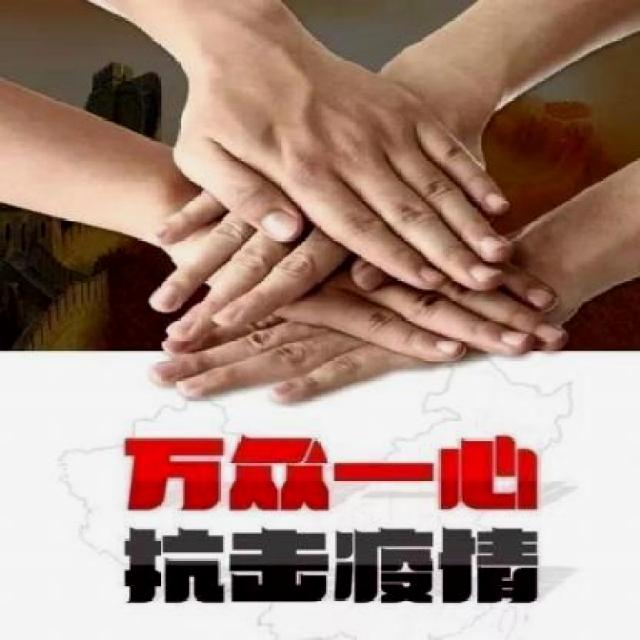hand_noglove: (179, 65, 515, 286), (155, 260, 558, 392)
